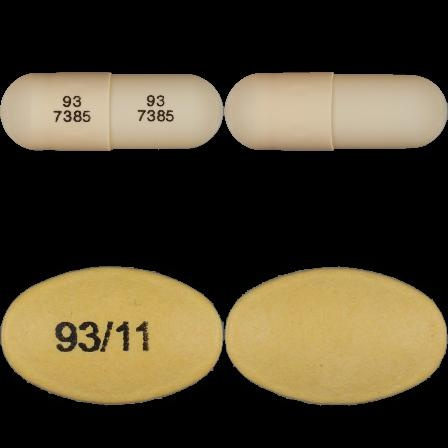33358-530: (0, 0, 224, 224)
